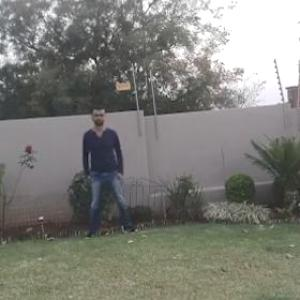follow: (80, 101, 132, 243)
